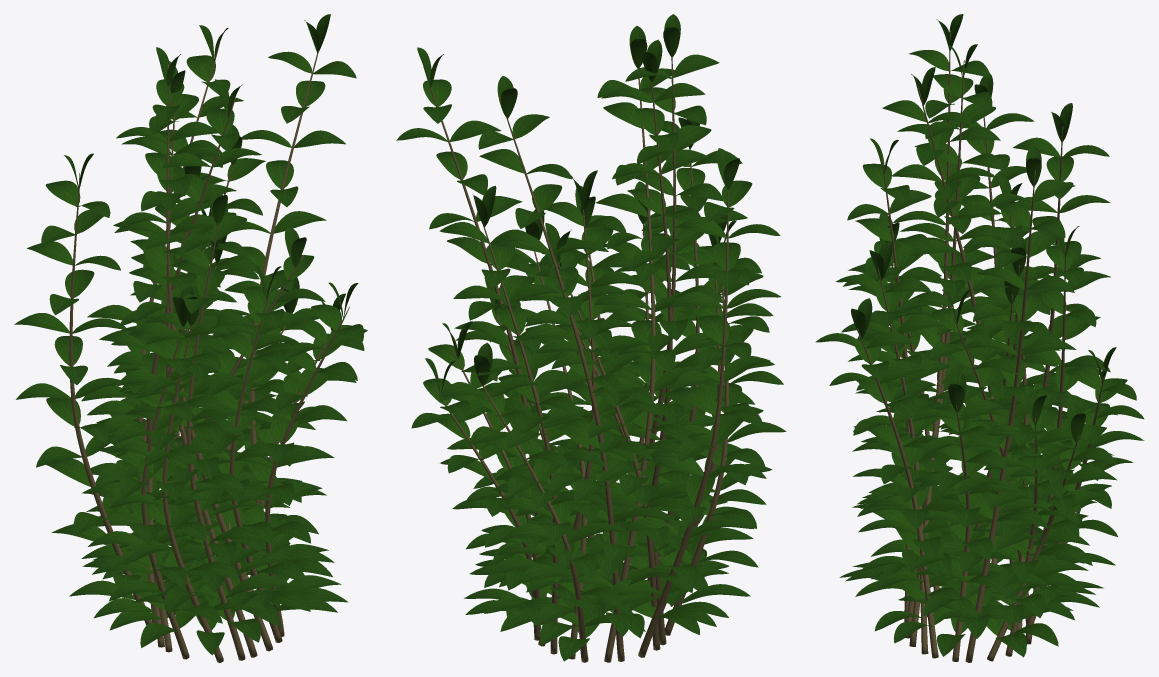
The model's file is plant-stem.glb.
3 renders of one model, left to right at view 1: azimuth 30°, elevation 25°; view 2: azimuth 150°, elevation 25°; view 3: azimuth 270°, elevation 25°, orthographic. The views are drawn at different scales.
Parts seen in each view (by area): view 1: Rotala · branching stem cluster · export mesh; view 2: Rotala · branching stem cluster · export mesh; view 3: Rotala · branching stem cluster · export mesh.
Part boxes in pixels (x1,y1,x2,y2): Rotala · branching stem cluster · export mesh: [14, 14, 367, 662]; Rotala · branching stem cluster · export mesh: [396, 14, 786, 662]; Rotala · branching stem cluster · export mesh: [815, 14, 1144, 662].
Size of the model in its own units: 0.0905 by 0.158 by 0.0798.
2 materials, 1 textured.
